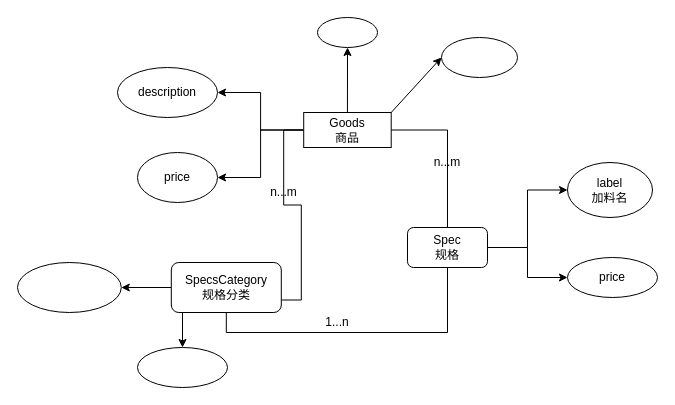
Image size: 675x405. Some labels were removed from this diagram. Each missing label, with the centre of its shape:
cover 商品图片: the point at 479,57
label: the point at 68,287
maxUnit: the point at 182,367
name: the point at 347,32
